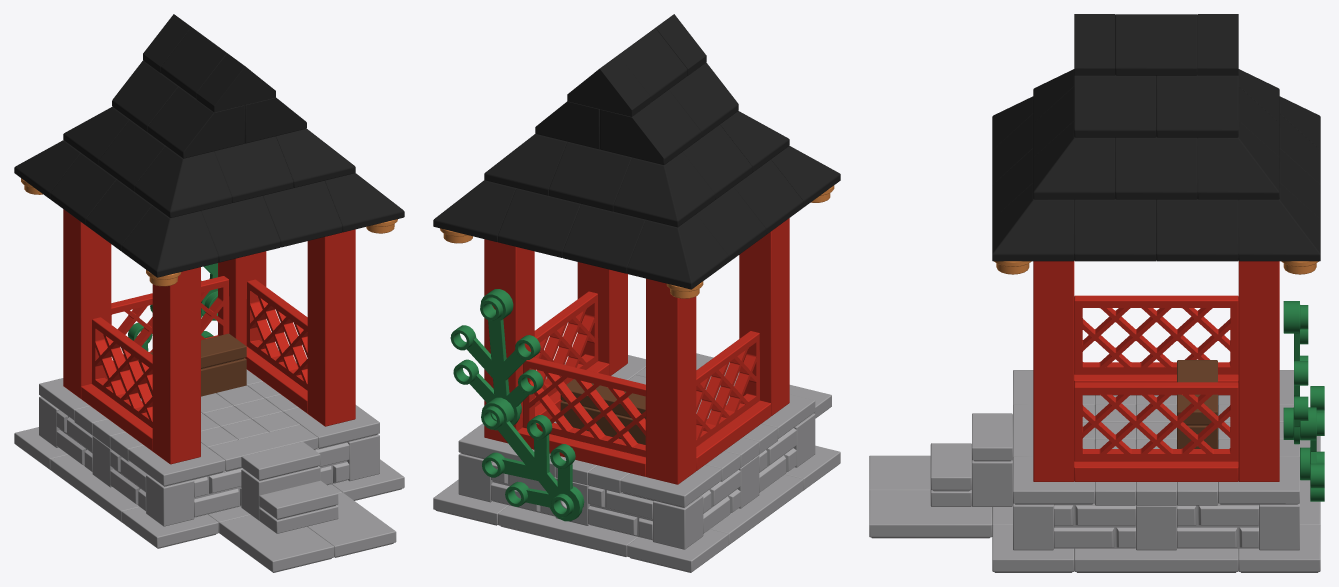
File: Pavilion.fbx
The picture shows the model from 3 angles, left to right: view 1: azimuth 30°, elevation 25°; view 2: azimuth 150°, elevation 25°; view 3: azimuth 270°, elevation 25°; orthographic projection. The views are drawn at different scales.
Parts seen in each view (by area): view 1: 05437_2453.dat, 05451_2453.dat, 05455_2453.dat, 05512_3185.dat, 05499_3185.dat, 05466_3045.dat, 05525_3045.dat, 05479_3039.dat, 05536_26603.dat, 05463_3039.dat, 05461_3039.dat, 05476_3039.dat (+46 smaller); view 2: 05455_2453.dat, 05490_3185.dat, 05451_2453.dat, 05512_3185.dat, 05495_2423.dat, 05496_2423.dat, 05527_3045.dat, 05465_3045.dat, 05478_3039.dat, 05435_2453.dat, 05499_3185.dat, 05456_3039.dat (+38 smaller); view 3: 05499_3185.dat, 05512_3185.dat, 05435_2453.dat, 05437_2453.dat, 05474_3039.dat, 05462_3039.dat, 05477_3039.dat, 05457_3039.dat, 05480_3039.dat, 05433_3045.dat, 05523_3045.dat, 05467_3045.dat (+40 smaller).
Part boxes in pixels (left/top/right/bottom): 05437_2453.dat: left=307, top=229, right=355, bottom=426; 05451_2453.dat: left=152, top=267, right=200, bottom=464; 05455_2453.dat: left=63, top=209, right=111, bottom=398; 05512_3185.dat: left=81, top=317, right=152, bottom=451; 05499_3185.dat: left=245, top=279, right=307, bottom=413; 05466_3045.dat: left=134, top=146, right=231, bottom=217; 05525_3045.dat: left=121, top=206, right=218, bottom=277; 05479_3039.dat: left=148, top=86, right=244, bottom=158; 05536_26603.dat: left=219, top=515, right=334, bottom=572; 05463_3039.dat: left=262, top=180, right=342, bottom=247; 05461_3039.dat: left=201, top=196, right=280, bottom=262; 05476_3039.dat: left=214, top=136, right=293, bottom=202; 05455_2453.dat: left=646, top=278, right=696, bottom=484; 05490_3185.dat: left=517, top=357, right=645, bottom=476; 05451_2453.dat: left=739, top=218, right=789, bottom=416; 05512_3185.dat: left=696, top=331, right=770, bottom=470; 05495_2423.dat: left=481, top=397, right=584, bottom=521; 05496_2423.dat: left=450, top=289, right=543, bottom=425; 05527_3045.dat: left=627, top=214, right=728, bottom=289; 05465_3045.dat: left=613, top=152, right=714, bottom=227; 05478_3039.dat: left=600, top=90, right=701, bottom=164; 05435_2453.dat: left=484, top=239, right=534, bottom=443; 05499_3185.dat: left=534, top=291, right=609, bottom=419; 05456_3039.dat: left=498, top=188, right=580, bottom=257; 05499_3185.dat: left=1074, top=382, right=1238, bottom=481; 05512_3185.dat: left=1074, top=295, right=1238, bottom=395; 05435_2453.dat: left=1238, top=261, right=1279, bottom=481; 05437_2453.dat: left=1033, top=261, right=1074, bottom=481; 05474_3039.dat: left=1115, top=136, right=1197, bottom=199; 05462_3039.dat: left=1156, top=199, right=1238, bottom=261; 05477_3039.dat: left=1156, top=75, right=1238, bottom=137; 05457_3039.dat: left=1074, top=199, right=1156, bottom=261; 05480_3039.dat: left=1074, top=75, right=1156, bottom=137; 05433_3045.dat: left=1238, top=183, right=1320, bottom=261; 05523_3045.dat: left=992, top=183, right=1074, bottom=261; 05467_3045.dat: left=1033, top=121, right=1115, bottom=199.
Bounding box in the file's own units: 160 × 264 × 222.
